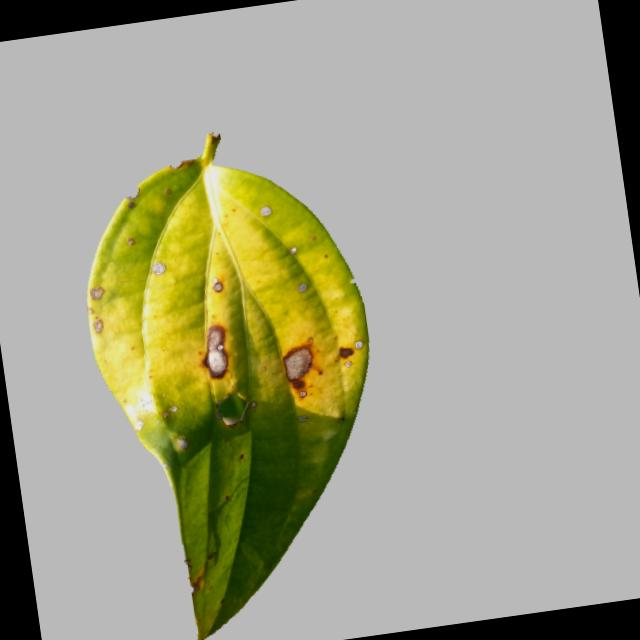leaf-blight: (21, 121, 426, 640)
